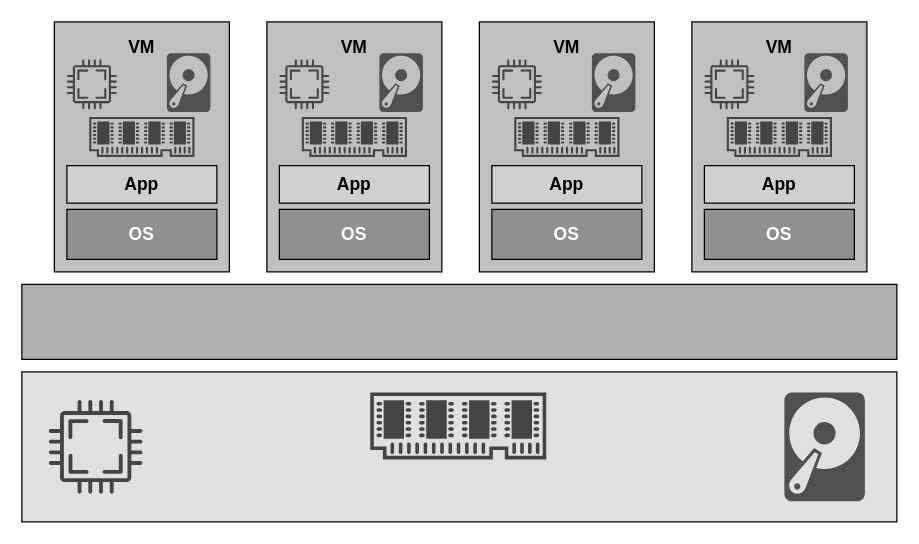
This 919x544 diagram has some shape labels left out. Each missing label, with the box of its shape:
Hypervisor: (21, 283, 897, 359)
Physical Server: (21, 371, 897, 522)
